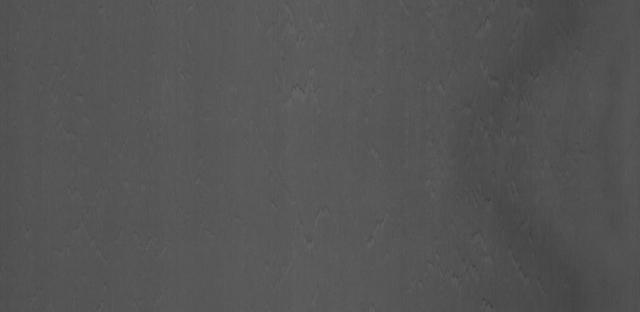silk_spot: (418, 159, 511, 263), (281, 204, 399, 252)
